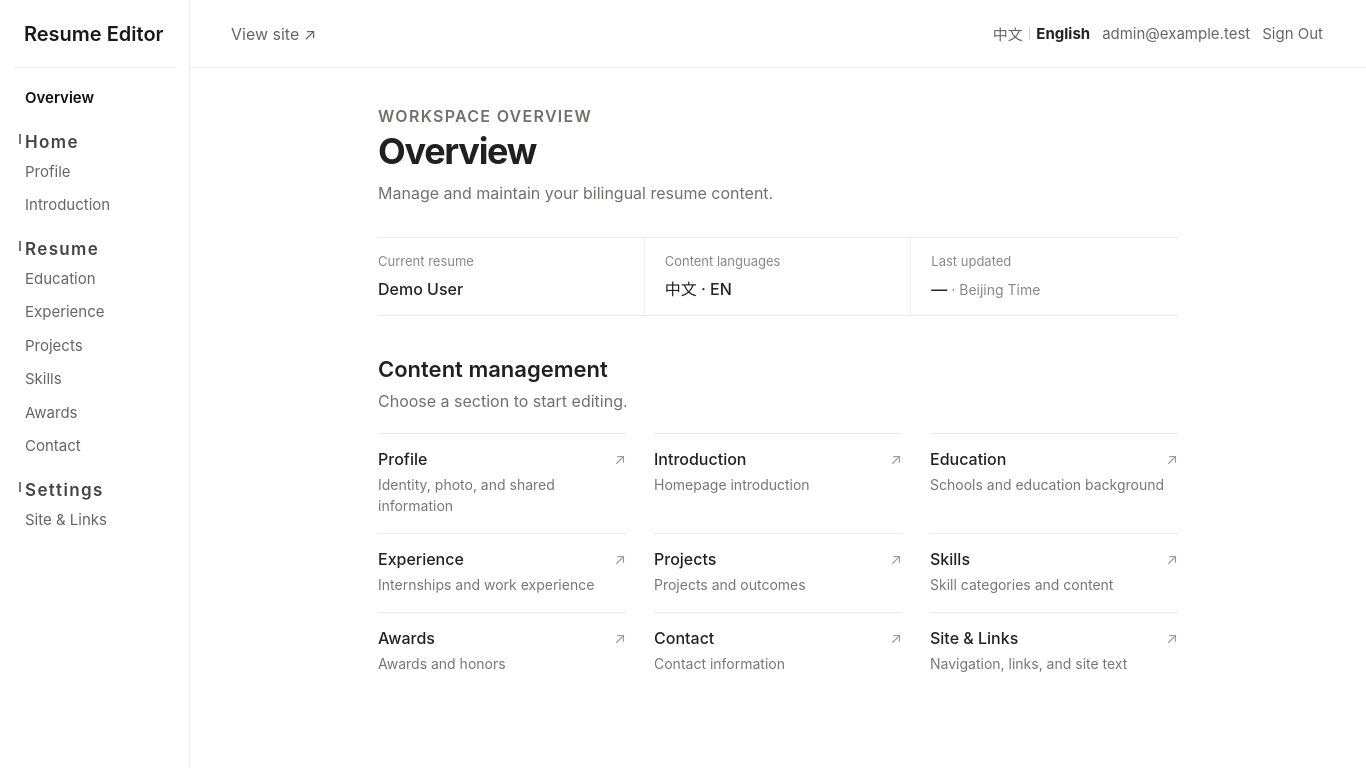
global CMS UI locale › defaults to English and switches the global navigation to Chinese
Expected: the link "Profile" is shown, [25,162,70,180]
What coordinates should you click on to do the following:
click the button "中文"
I would click on:
 (1008, 34)
Its box is [991,18,1025,49].
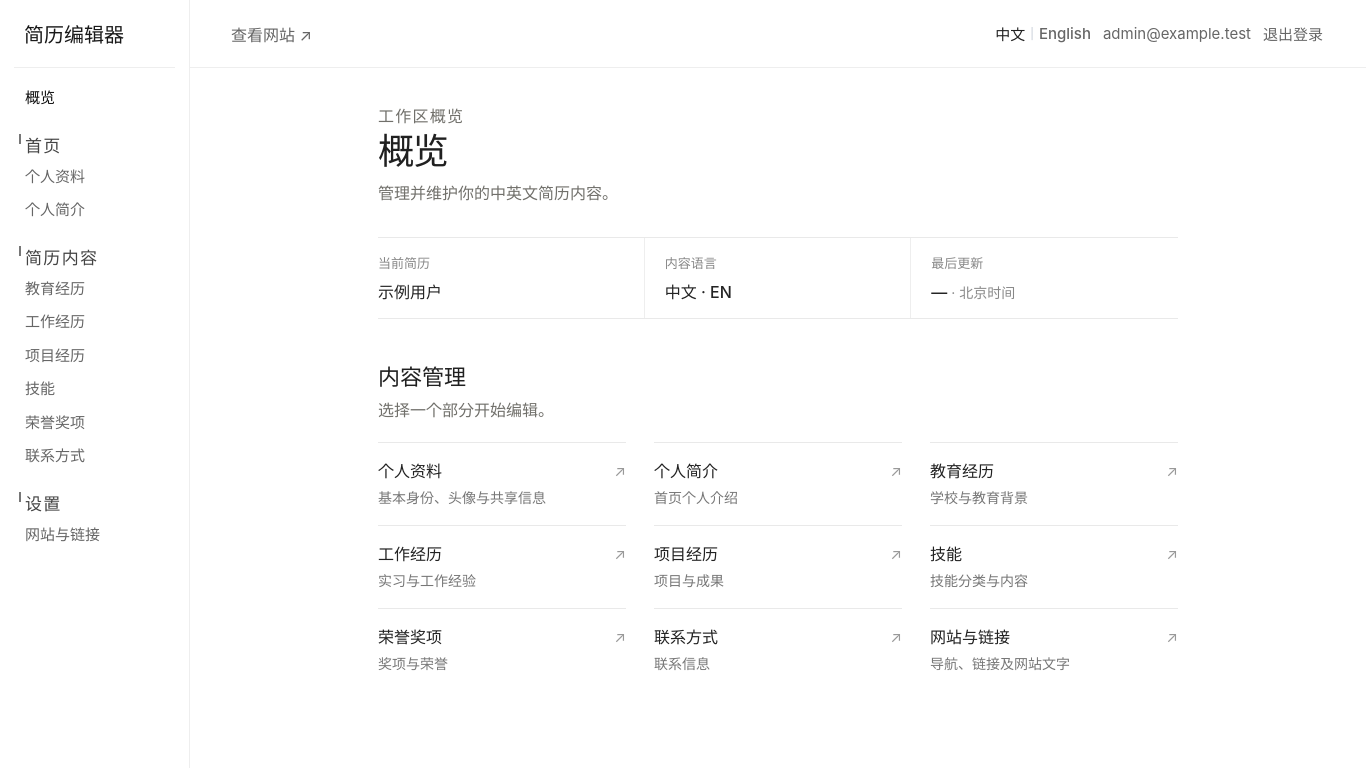
Result: the link "个人资料" is shown at [25,166,85,186]
Result: the link "教育经历" is shown at [25,278,85,298]
